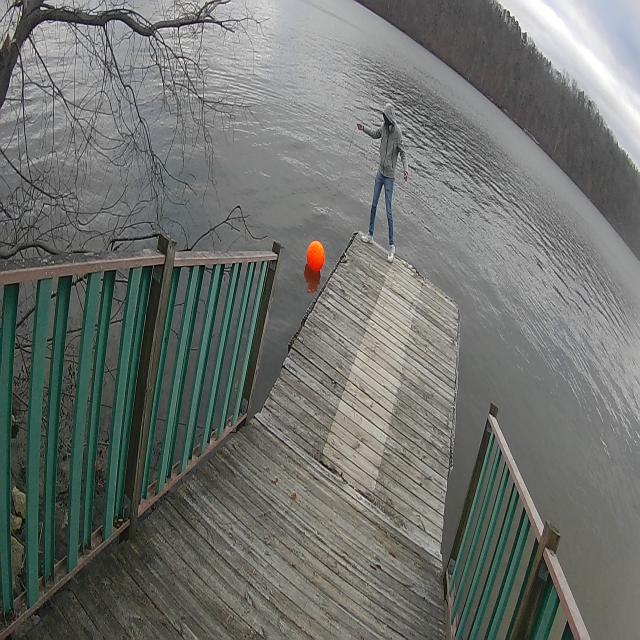Buoy: (304, 236, 326, 277)
